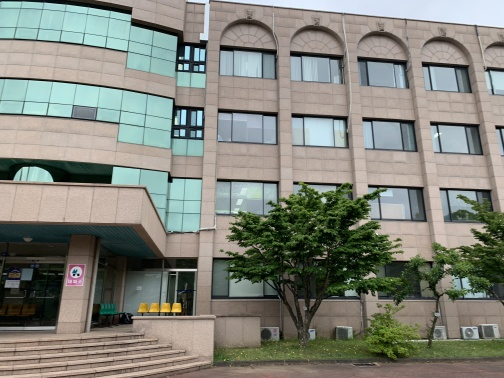Natural Science2: (5, 6, 504, 377)
